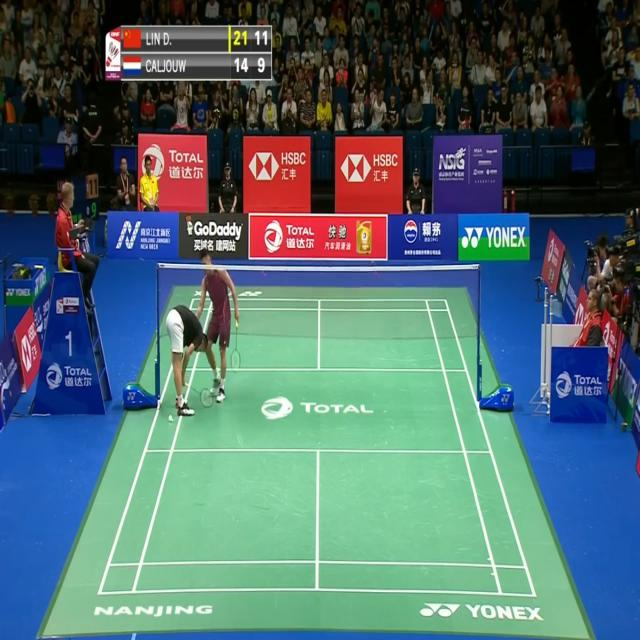Player1: (161, 300, 215, 428)
Player2: (188, 247, 248, 405)
